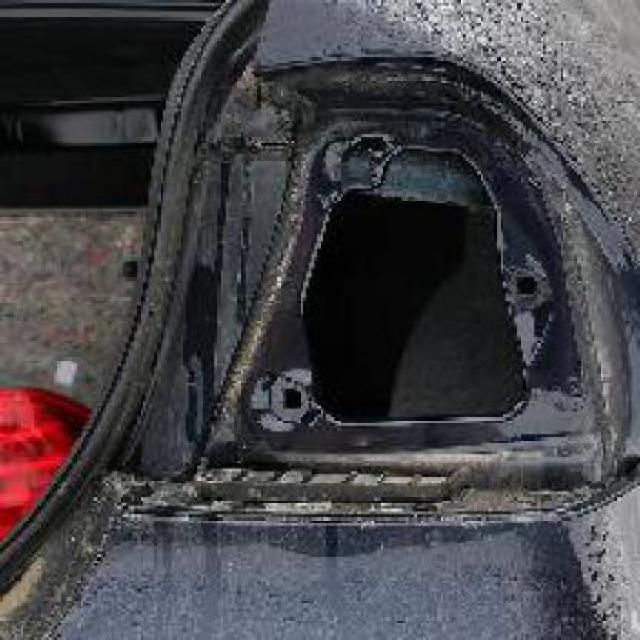dent-or-scratch: (143, 75, 640, 532)
